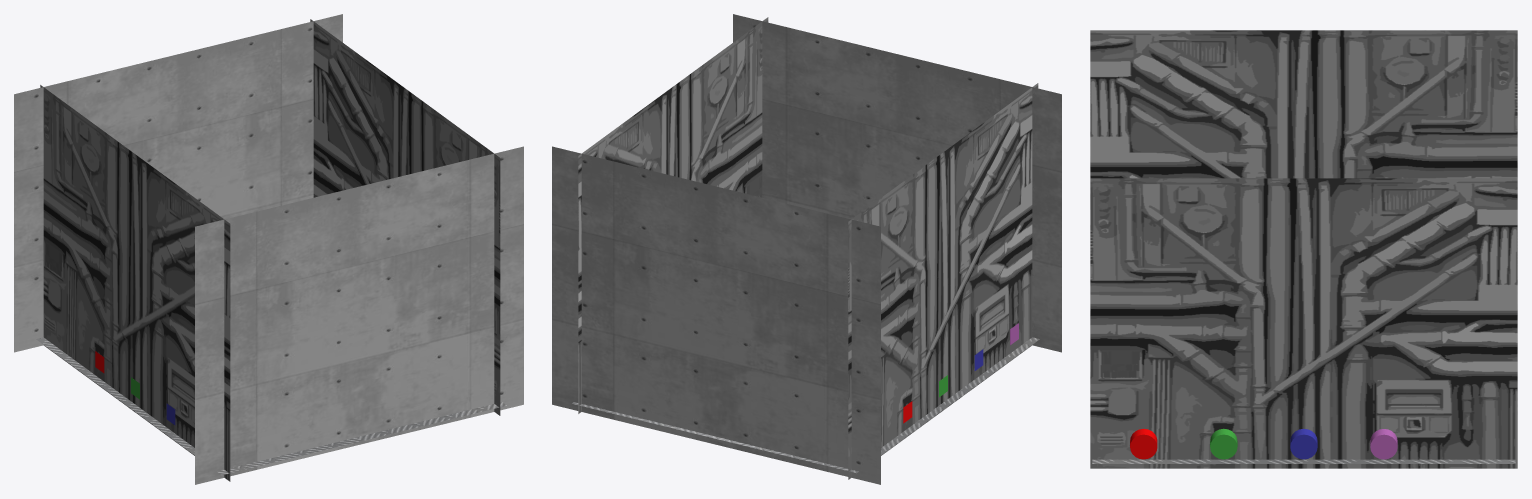
The model's file is gimmick2_3.fbx.
3 renders of one model, left to right at view 1: azimuth 30°, elevation 25°; view 2: azimuth 150°, elevation 25°; view 3: azimuth 270°, elevation 25°, orthographic. The views are drawn at different scales.
Visible parts, largest first — view 1: WallBack, WallRight, WallFront, WallLeft, Floor; view 2: WallFront, WallBack, WallRight, WallLeft, Floor; view 3: WallLeft, WallRight, Floor, RedOut, GreenOut, PinkOut, BlueOut.
Boxes of the visible parts, <box> form: WallBack: <box>195,146,523,484</box>; WallRight: <box>40,85,230,481</box>; WallFront: <box>14,14,342,352</box>; WallLeft: <box>310,19,500,415</box>; Floor: <box>36,337,506,474</box>; WallFront: <box>552,146,880,484</box>; WallBack: <box>733,14,1061,352</box>; WallRight: <box>848,83,1038,479</box>; WallLeft: <box>578,17,768,413</box>; Floor: <box>572,337,1039,473</box>; WallLeft: <box>1090,178,1517,468</box>; WallRight: <box>1090,30,1517,178</box>; Floor: <box>1092,459,1515,463</box>; RedOut: <box>1130,428,1157,459</box>; GreenOut: <box>1210,428,1237,459</box>; PinkOut: <box>1370,429,1397,459</box>; BlueOut: <box>1290,428,1317,459</box>.
Size of the model in its own units: 2133 by 1600 by 2133.
